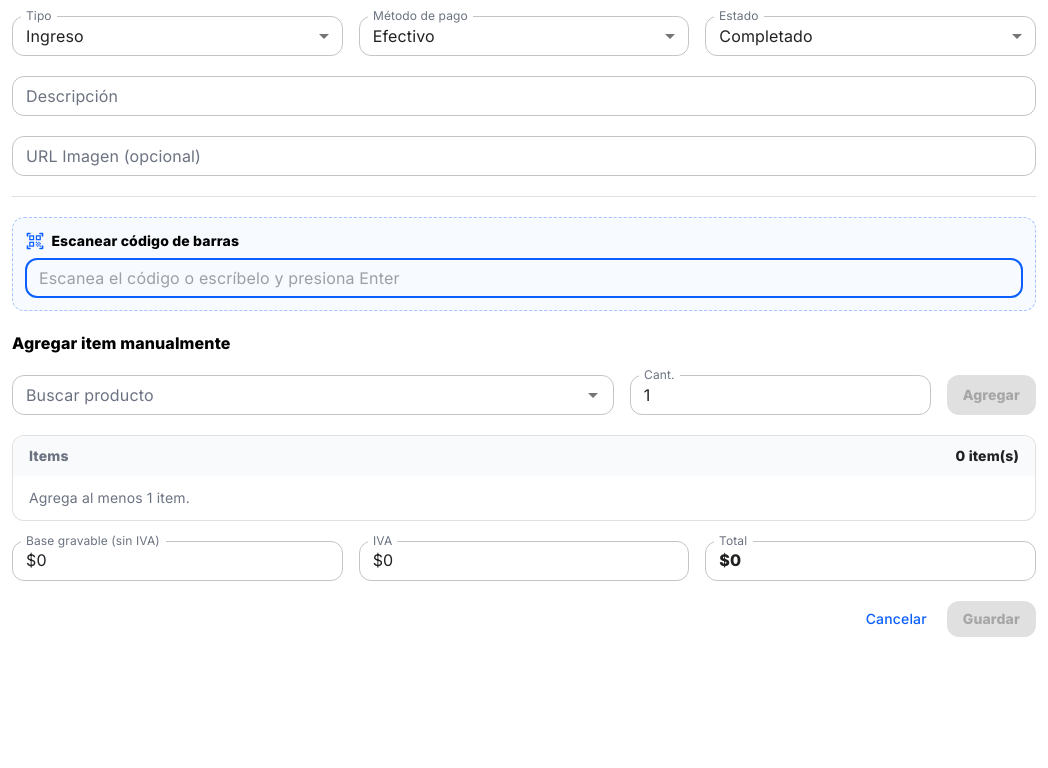
Test: RegisterForm — type selector › switches to the manual expense amount field when Egreso is selected
Press the mouse on the dropdown named "Tipo" at (55, 36), box [26, 26, 84, 46]
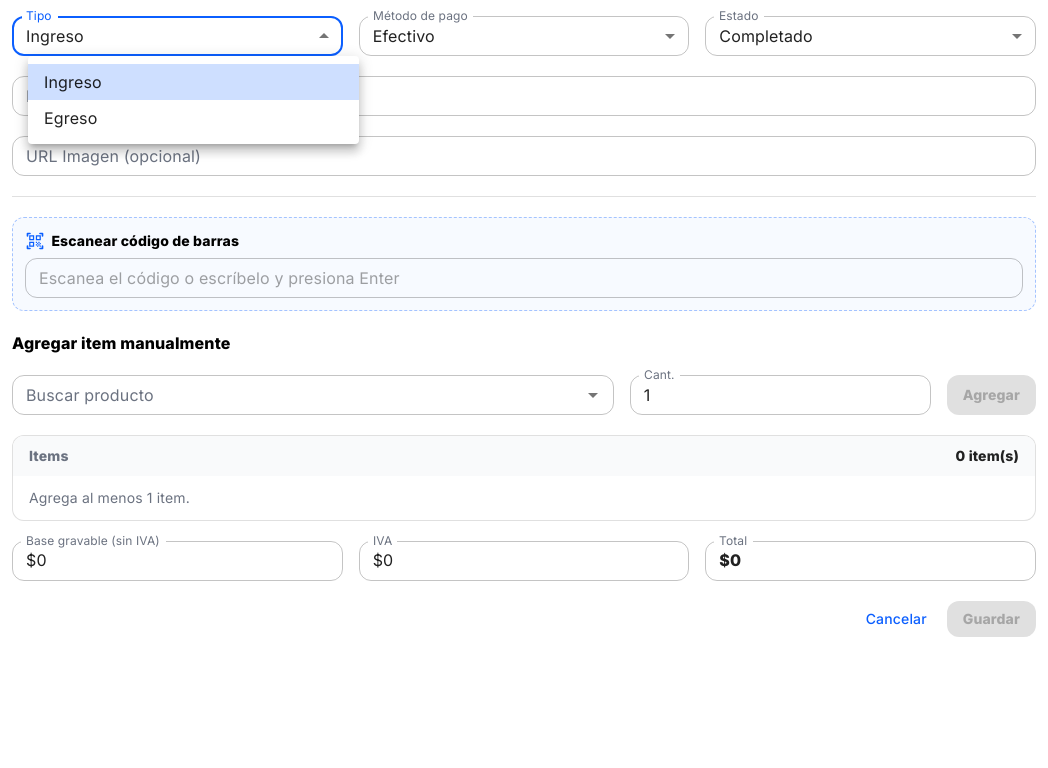
Click the option "Egreso".
click(71, 118)  # box [44, 108, 98, 128]
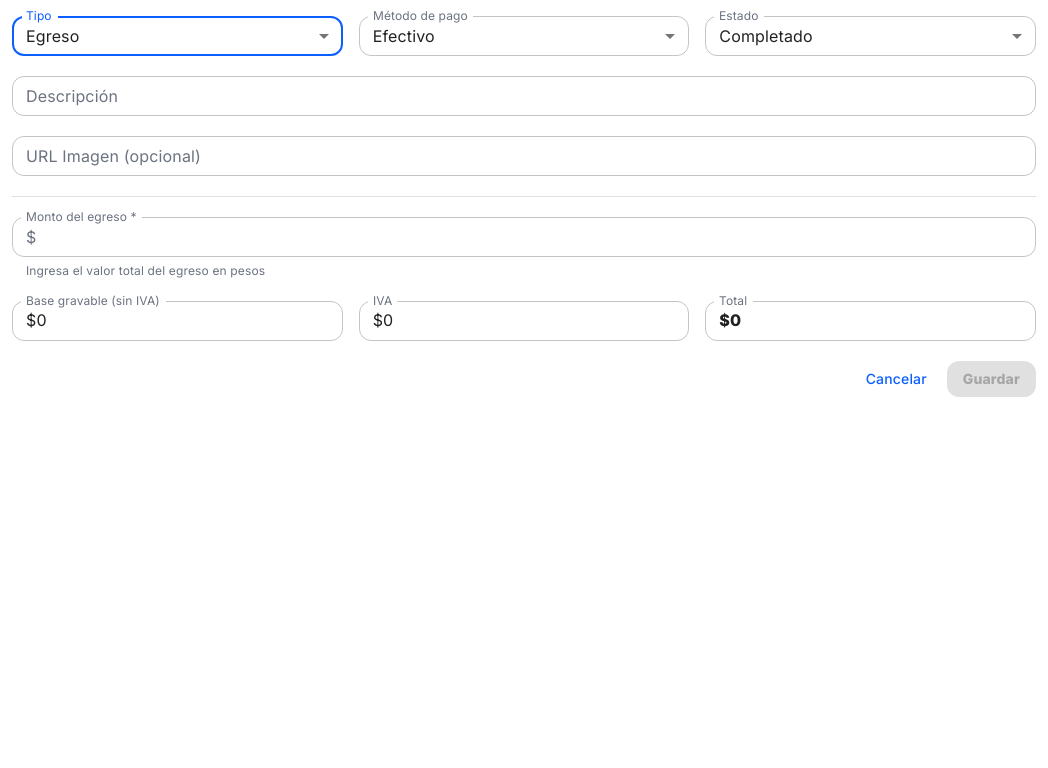
Expected: the number field labelled "Monto del egreso *" is shown, [44, 217, 1036, 257]
Expected: the heading "Escanear código de barras" is gone
